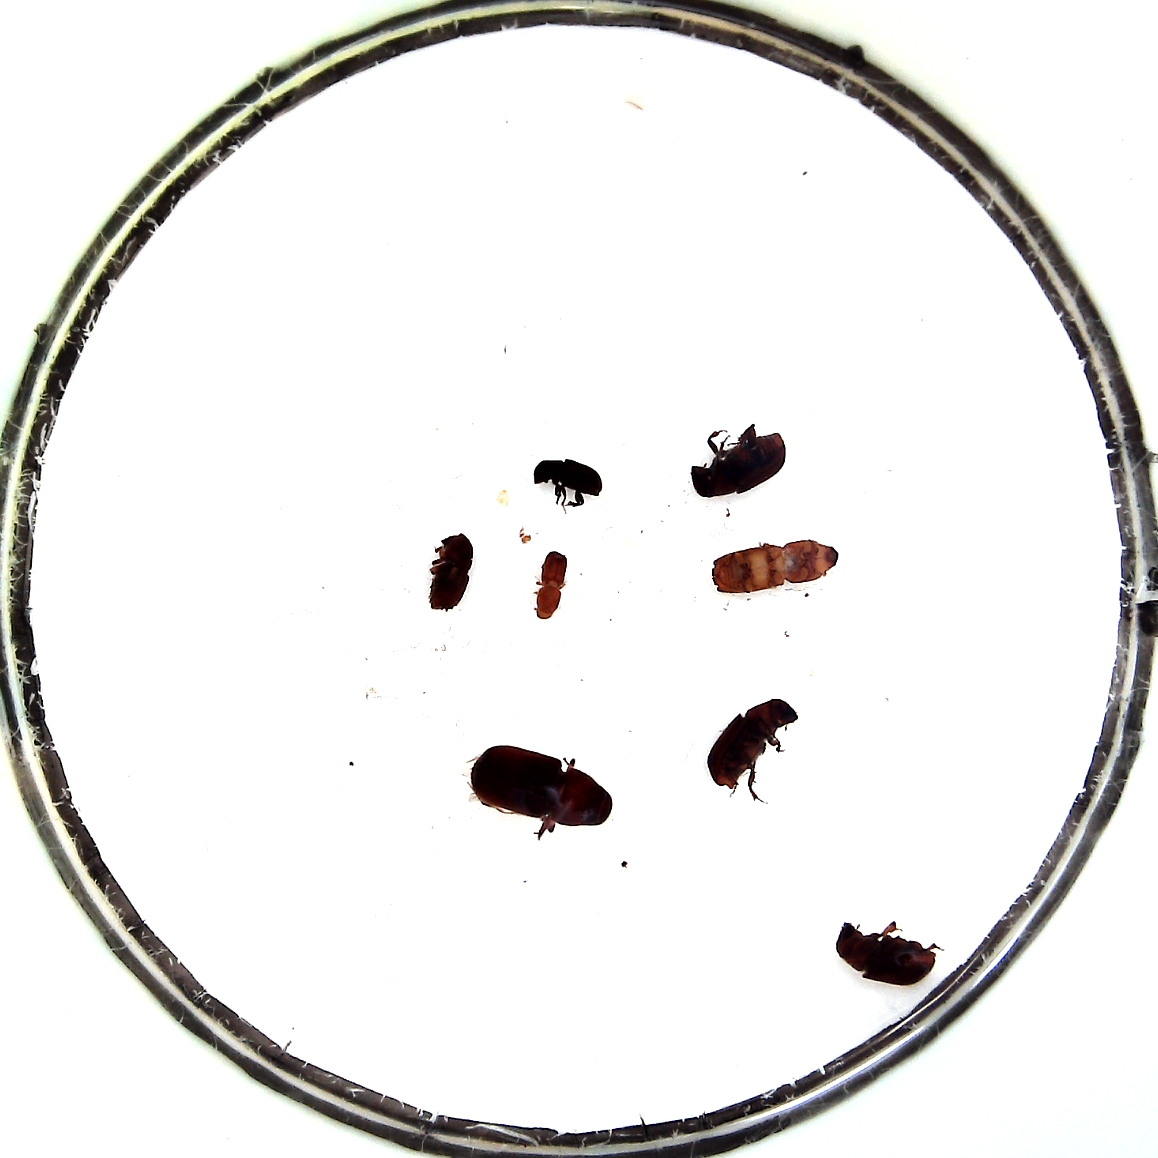Boerner: (709, 537, 841, 593)
Leconte: (469, 742, 614, 834), (704, 694, 799, 791), (689, 422, 789, 499), (830, 919, 940, 986)
Linnaeus: (425, 532, 476, 612)
acuminatus: (530, 548, 569, 624)
armandi: (528, 455, 604, 507)
